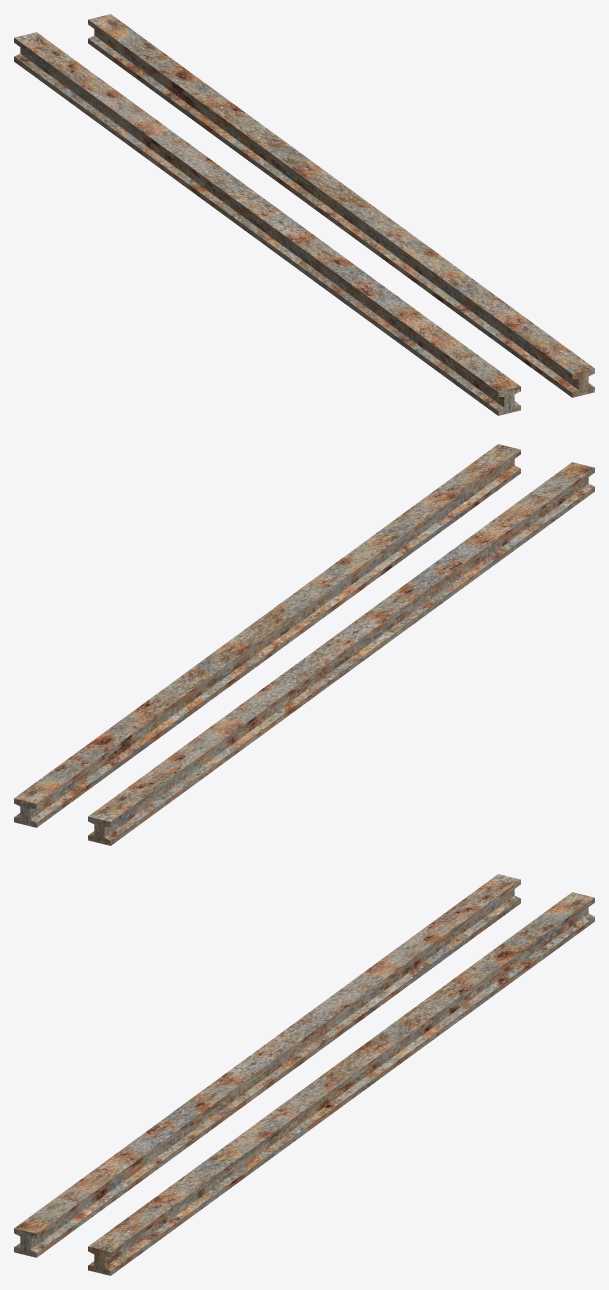
Rendered from mineRails_straight.FBX.
3 renders of one model, top to bottom at view 1: azimuth 30°, elevation 25°; view 2: azimuth 150°, elevation 25°; view 3: azimuth 330°, elevation 25°, orthographic.
Visible parts, largest first — view 1: mineRails; view 2: mineRails; view 3: mineRails.
Part boxes in pixels (x1,y1,x2,y2): mineRails: (14, 14, 594, 415); mineRails: (14, 444, 594, 845); mineRails: (14, 874, 594, 1275).
Bounding box in the file's own units: 59.07 × 13.93 × 512.
1 material, 1 textured.
